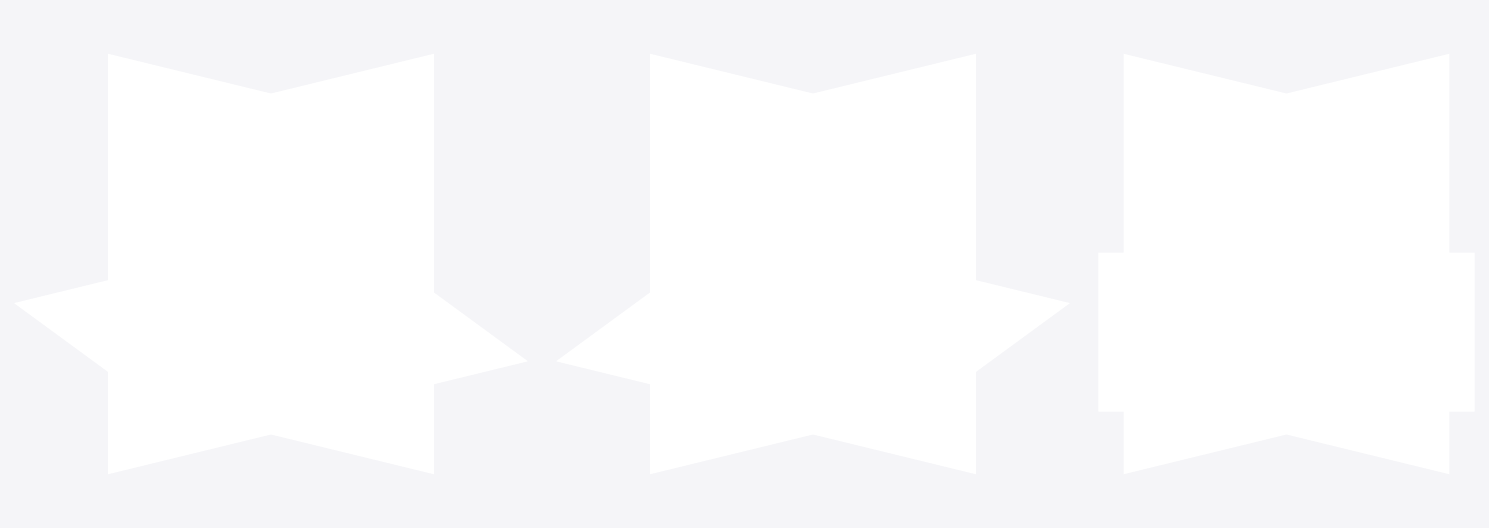
Rendered from citadel_fx_wfoam.glb.
3 views of the same model, side by side, from view 1: azimuth 30°, elevation 25°; view 2: azimuth 150°, elevation 25°; view 3: azimuth 270°, elevation 25° (orthographic).
Visible parts, largest first — view 1: citadel_fx_wfoam; view 2: citadel_fx_wfoam; view 3: citadel_fx_wfoam.
Part boxes in pixels (bbox=[...]): citadel_fx_wfoam: bbox=[14, 54, 527, 473]; citadel_fx_wfoam: bbox=[556, 54, 1069, 473]; citadel_fx_wfoam: bbox=[1098, 54, 1474, 473].
Size of the model in its own units: 1 by 1 by 1.
1 material, 1 textured.
